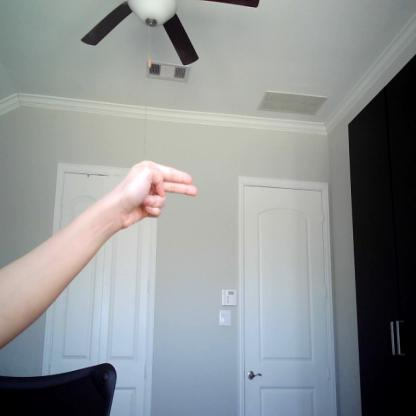H: (119, 156, 196, 233)
